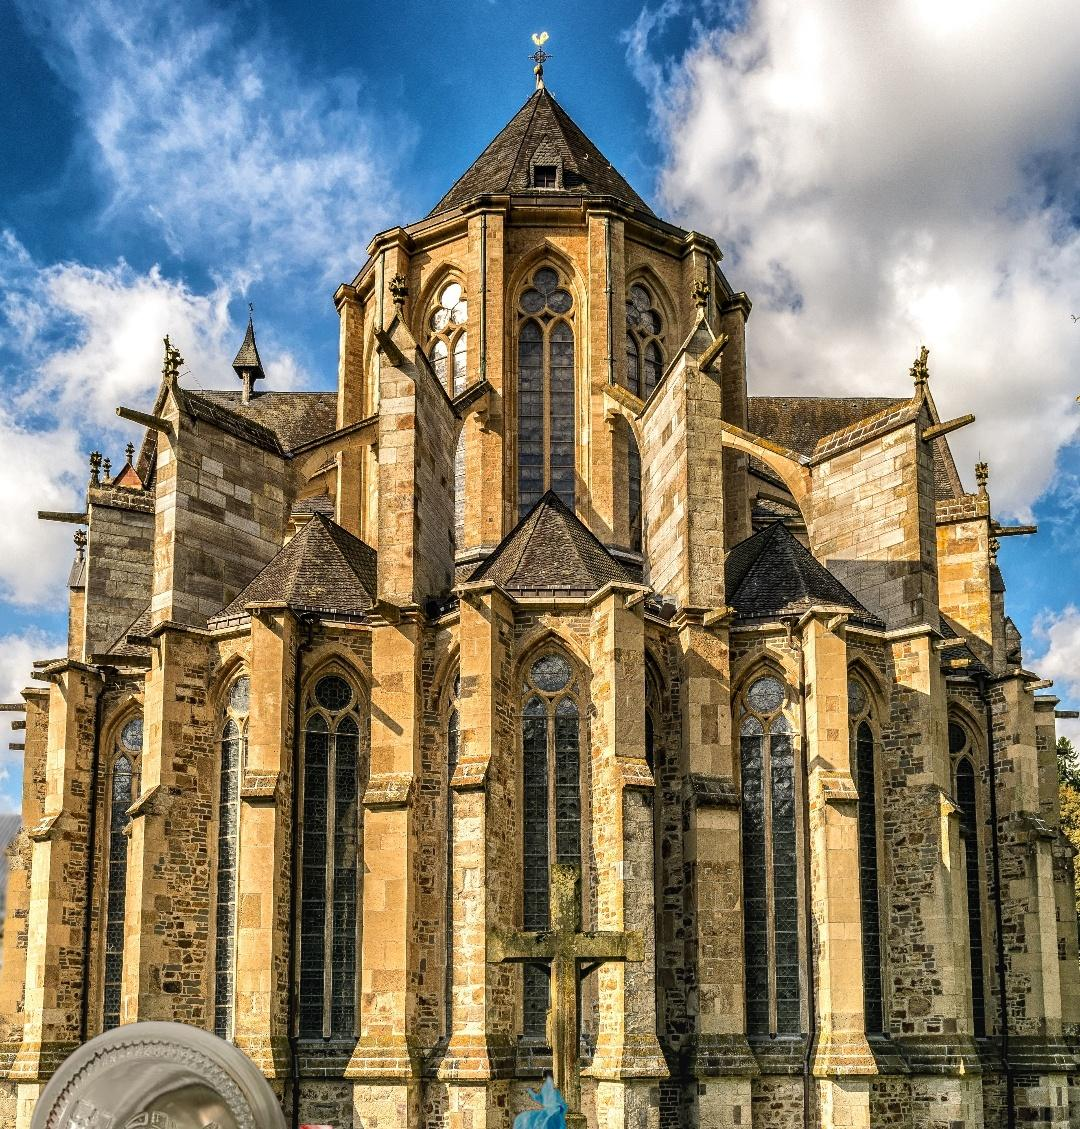biological: (112, 1125, 365, 1129)
glass: (25, 1017, 295, 1129)
plastic-bag: (500, 1065, 700, 1129)
